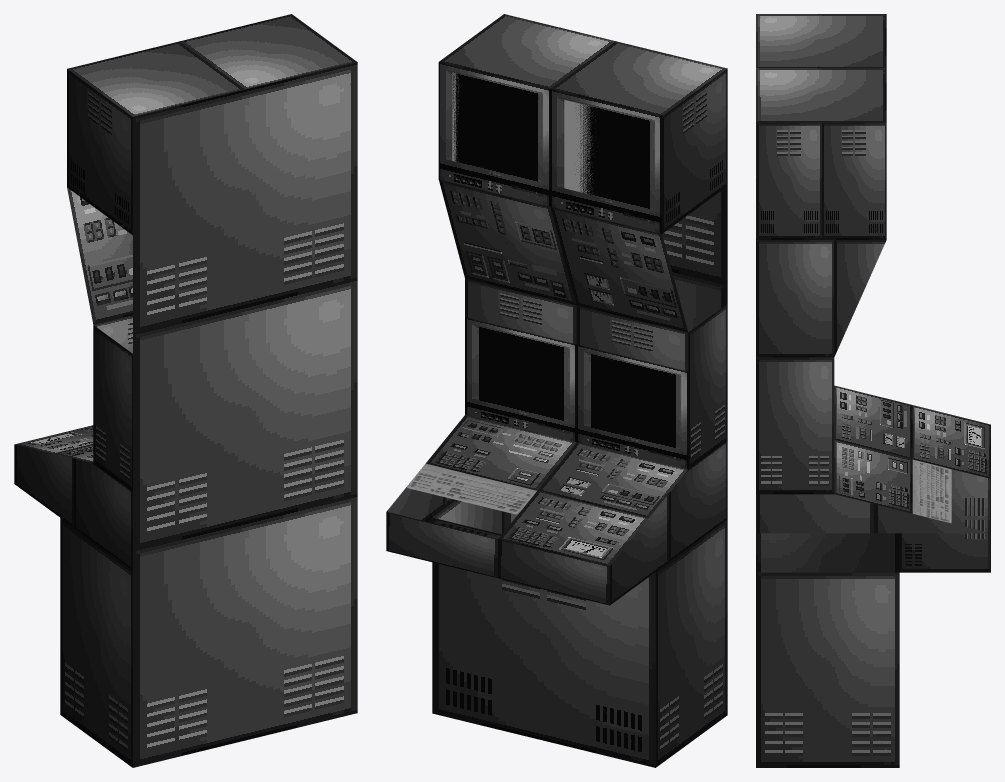
File: primary_128.glb
The picture shows the model from 3 angles, left to right: view 1: azimuth 30°, elevation 25°; view 2: azimuth 150°, elevation 25°; view 3: azimuth 270°, elevation 25°; orthographic projection.
Parts seen in each view (by area): view 1: Object; view 2: Object; view 3: Object.
Part boxes in pixels (x1,y1,x2,y2): Object: (14,14,357,767); Object: (386,14,727,767); Object: (756,14,990,767).
Bounding box in the file's own units: 1.1 × 3.05 × 1.01.
27 materials, 27 textured.
